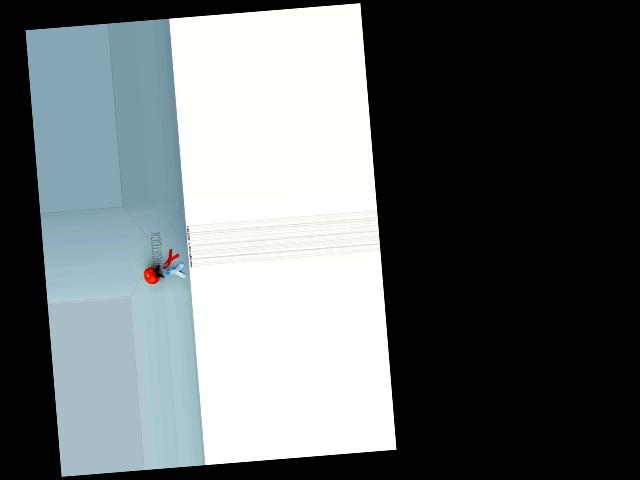tomato: (143, 266, 160, 284)
